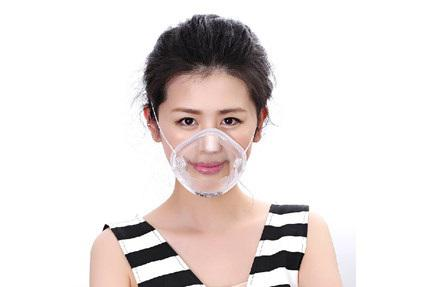OK: (159, 92, 263, 199)
